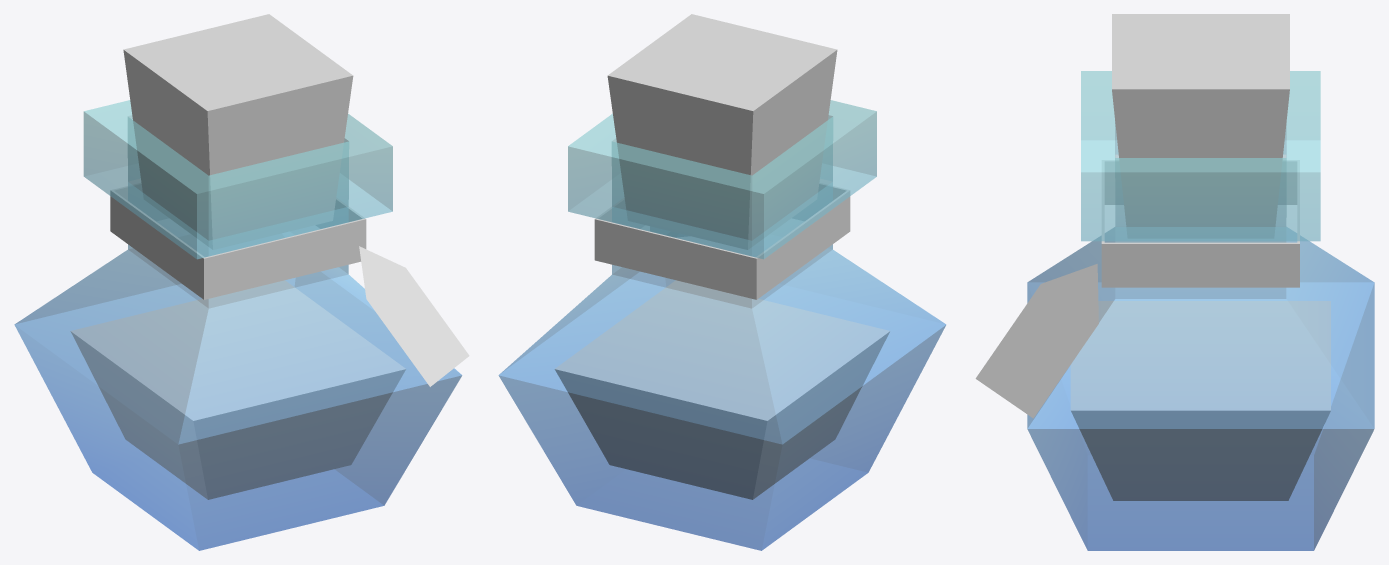
File: mallelixirupdate2023potion03.fbx
The picture shows the model from 3 angles, left to right: view 1: azimuth 30°, elevation 25°; view 2: azimuth 150°, elevation 25°; view 3: azimuth 270°, elevation 25°; orthographic projection. The views are drawn at different scales.
Parts seen in each view (by area): view 1: Cube, Cube.008, Cube.007; view 2: Cube, Cube.008, Cube.007; view 3: Cube, Cube.008, Cube.007.
Boxes of the visible parts, x1=… form: Cube: x1=14, y1=100, x2=461, y2=550; Cube.008: x1=110, y1=14, x2=469, y2=386; Cube.007: x1=70, y1=280, x2=405, y2=499; Cube: x1=498, y1=100, x2=945, y2=550; Cube.008: x1=594, y1=14, x2=850, y2=299; Cube.007: x1=555, y1=280, x2=889, y2=499; Cube: x1=1027, y1=71, x2=1374, y2=550; Cube.008: x1=975, y1=14, x2=1299, y2=418; Cube.007: x1=1070, y1=301, x2=1330, y2=500.
Bounding box in the file's own units: 24.82 × 34.4 × 27.55.
